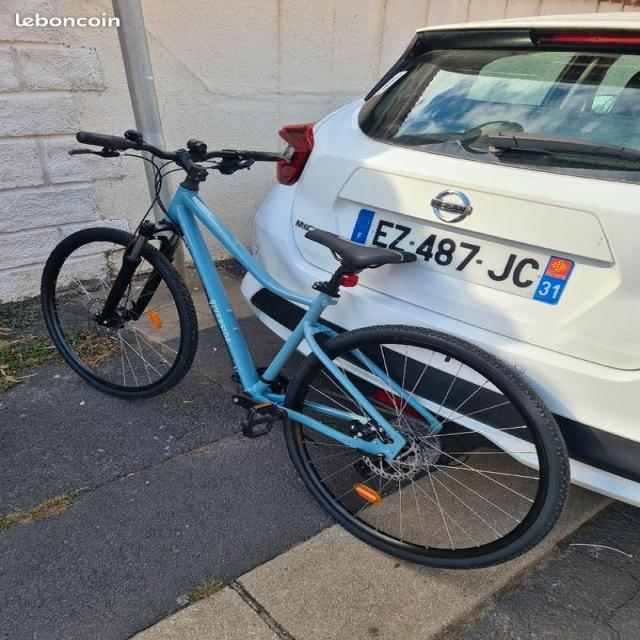Bike: (41, 130, 572, 570)
